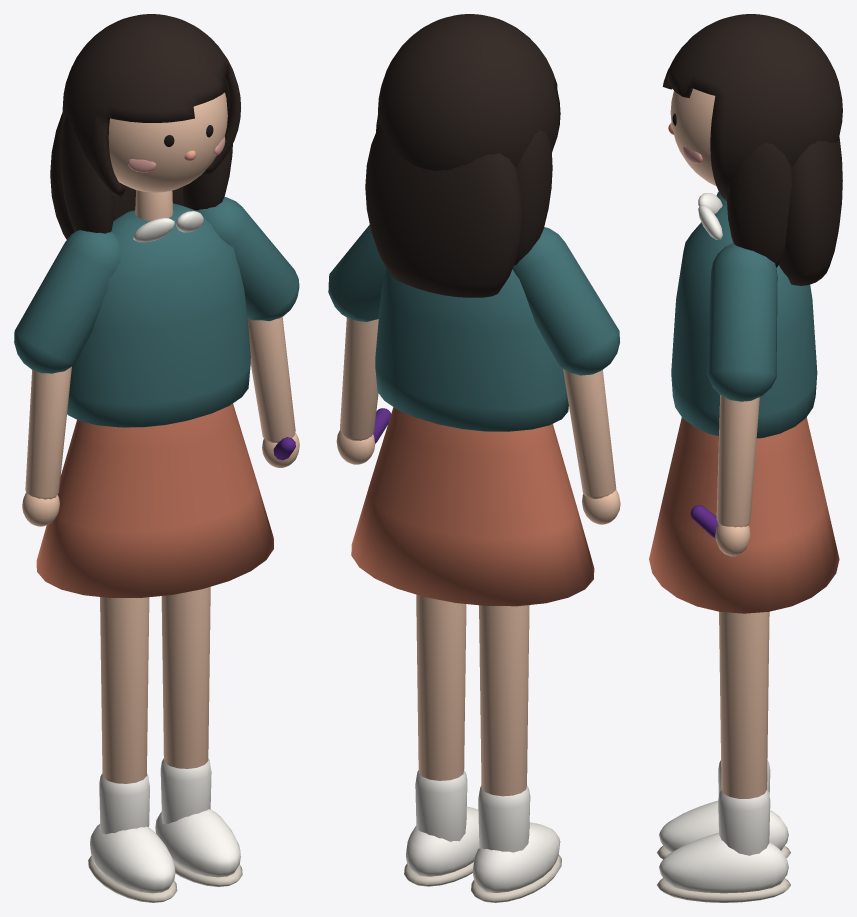
The model's file is Votante_Mujer.fbx.
3 renders of one model, left to right at view 1: azimuth 30°, elevation 25°; view 2: azimuth 150°, elevation 25°; view 3: azimuth 270°, elevation 25°, orthographic. The views are drawn at different scales.
Visible parts, largest first — view 1: Votante_Mujer; view 2: Votante_Mujer; view 3: Votante_Mujer.
Boxes of the visible parts, left/top/right/bottom form: Votante_Mujer: left=14, top=14, right=299, bottom=902; Votante_Mujer: left=328, top=14, right=620, bottom=902; Votante_Mujer: left=649, top=14, right=842, bottom=902.
Size of the model in its own units: 0.5576 by 1.63 by 0.3345.
